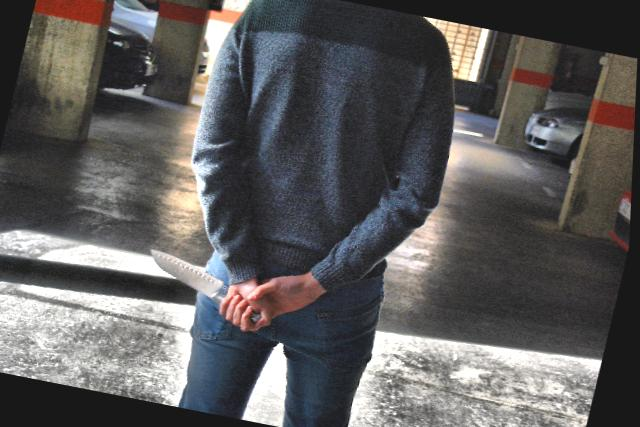knife: (137, 244, 278, 324)
